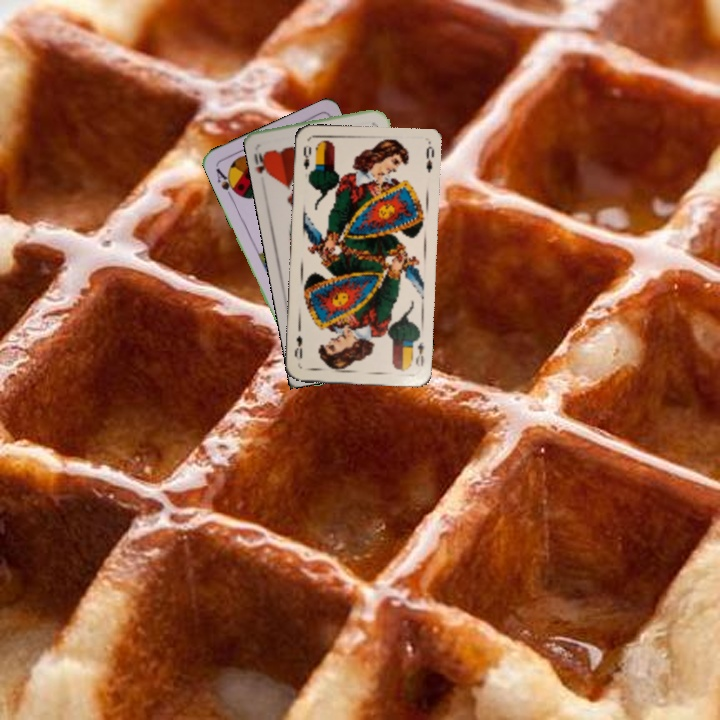EO: (299, 143, 315, 178), (411, 338, 426, 369)
HO: (250, 147, 273, 179)
SA: (212, 164, 241, 201)
